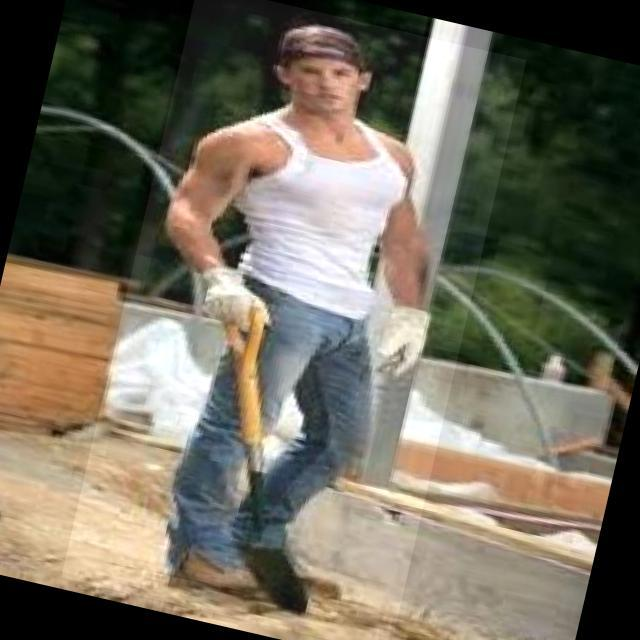Gloves: (184, 254, 276, 348), (369, 291, 437, 392)
Person: (143, 10, 459, 631)
Safety Boot: (161, 530, 266, 599)
no-helmet: (265, 25, 375, 75)
no-vest: (225, 99, 412, 329)
